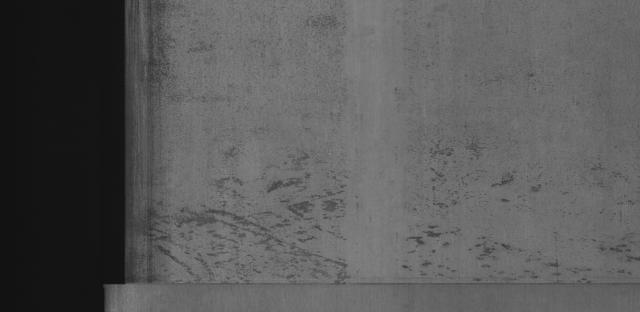welding_line: (99, 271, 639, 297)
